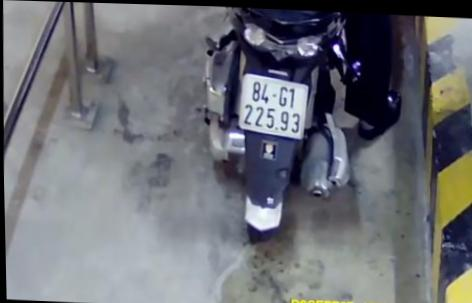LP: (236, 70, 311, 139)
